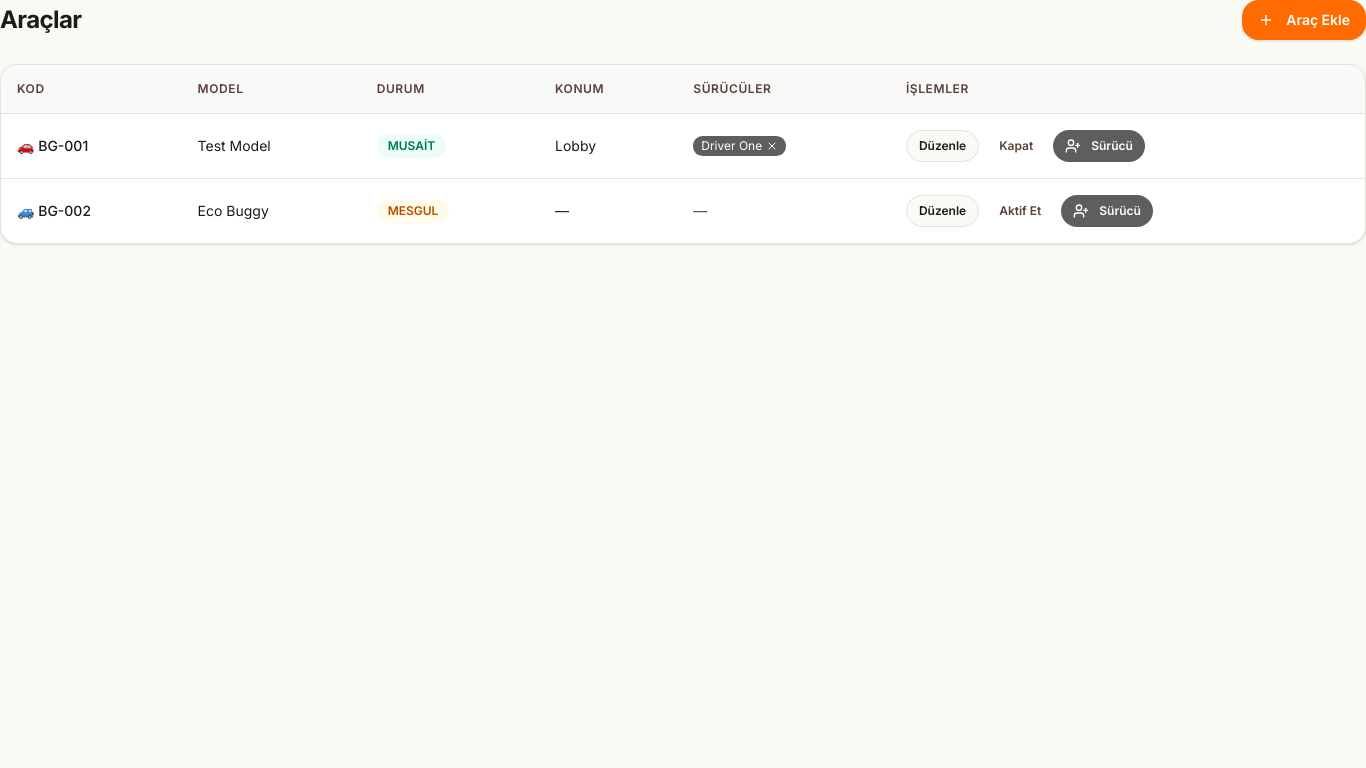
Scenario: BuggiesPage › Düzenle button pre-fills form
Check: the text "🚗 BG-001" is shown, box [1,113,182,178]
Click the button "Düzenle" in the row of "BG-001".
click(943, 146)  # box [906,130,979,162]
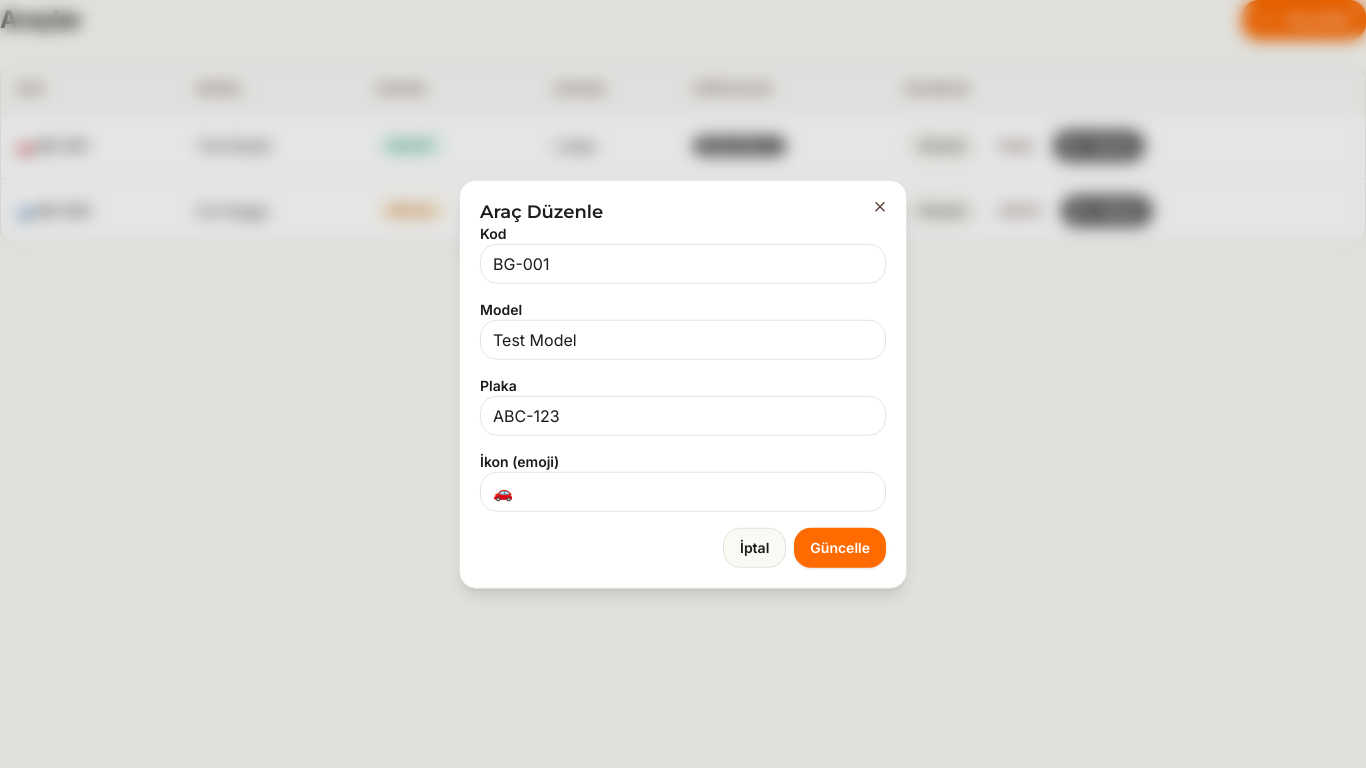
Check: the heading "Araç Düzenle" is shown, box [480,201,603,223]
Check: the field labelled "Kod" holds "BG-001", box [480,243,886,283]
